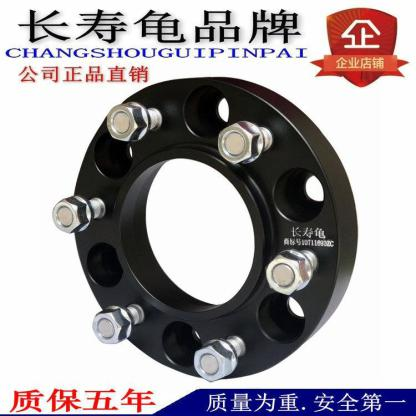FOD: (69, 70, 362, 386)
